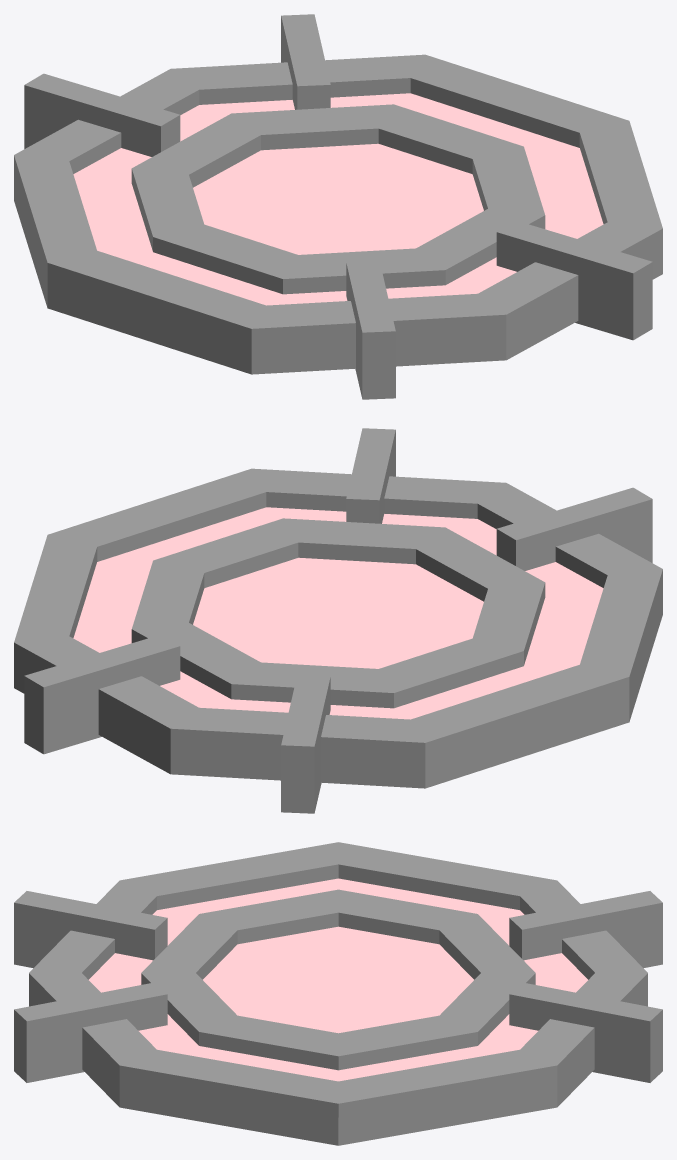
File: ColorChanger.glb
3 renders of one model, top to bottom at view 1: azimuth 30°, elevation 25°; view 2: azimuth 150°, elevation 25°; view 3: azimuth 270°, elevation 25°, orthographic. The views are drawn at different scales.
Visible parts, largest first — view 1: ColorSwitcher; view 2: ColorSwitcher; view 3: ColorSwitcher.
Boxes of the visible parts, bbox=[...] form: ColorSwitcher: bbox=[14, 14, 662, 399]; ColorSwitcher: bbox=[14, 428, 662, 813]; ColorSwitcher: bbox=[14, 842, 662, 1145].
Bounding box in the file's own units: 4 × 0.4408 × 4.19.
